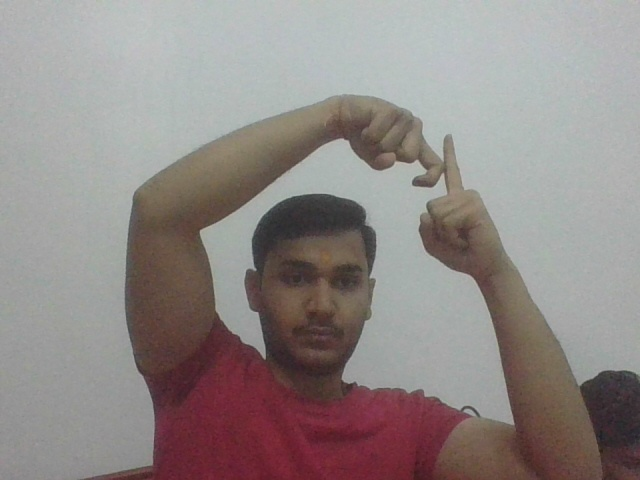K: (401, 111, 476, 214)
